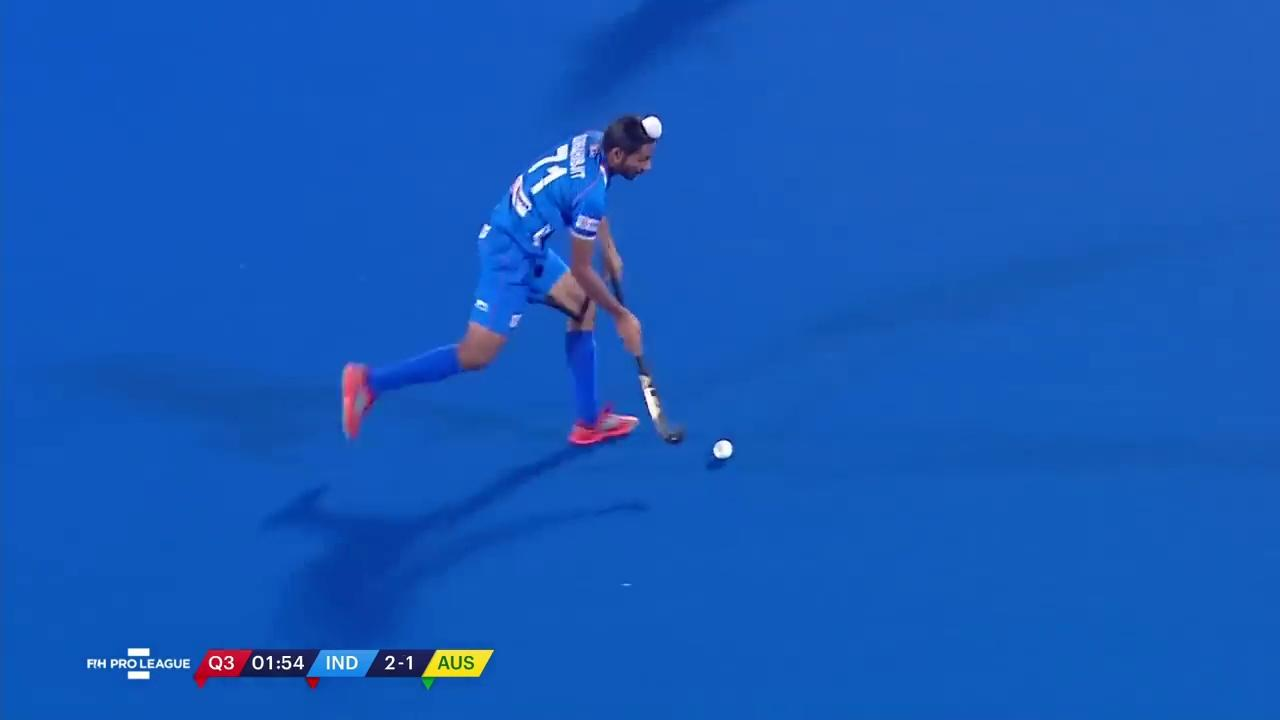ball: (695, 415, 749, 478)
